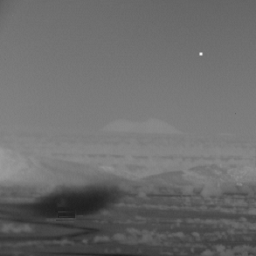Target: (198, 51, 205, 57)
